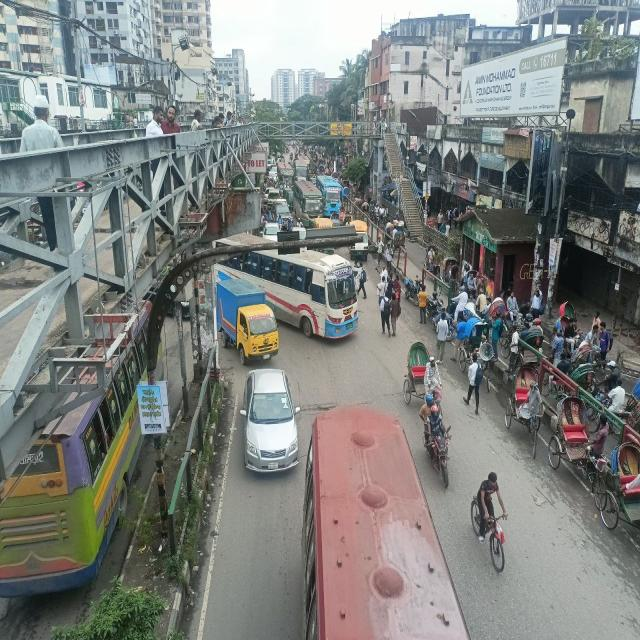people: (463, 352, 484, 417), (507, 325, 521, 374), (379, 291, 392, 339), (436, 312, 448, 363), (388, 290, 401, 336), (355, 260, 369, 302), (417, 284, 429, 324), (384, 242, 394, 273), (375, 234, 384, 264)
vehicle: (306, 408, 470, 639), (215, 227, 359, 342), (548, 392, 610, 516), (240, 368, 302, 477), (216, 280, 280, 366), (470, 471, 509, 574), (506, 361, 547, 454), (599, 443, 640, 530), (419, 392, 455, 490), (402, 340, 445, 416), (460, 318, 494, 391), (293, 177, 325, 219), (317, 173, 345, 218), (346, 220, 371, 261), (404, 275, 426, 300), (272, 199, 294, 222), (276, 162, 296, 187), (262, 220, 281, 244), (294, 157, 310, 179), (281, 190, 295, 212)
